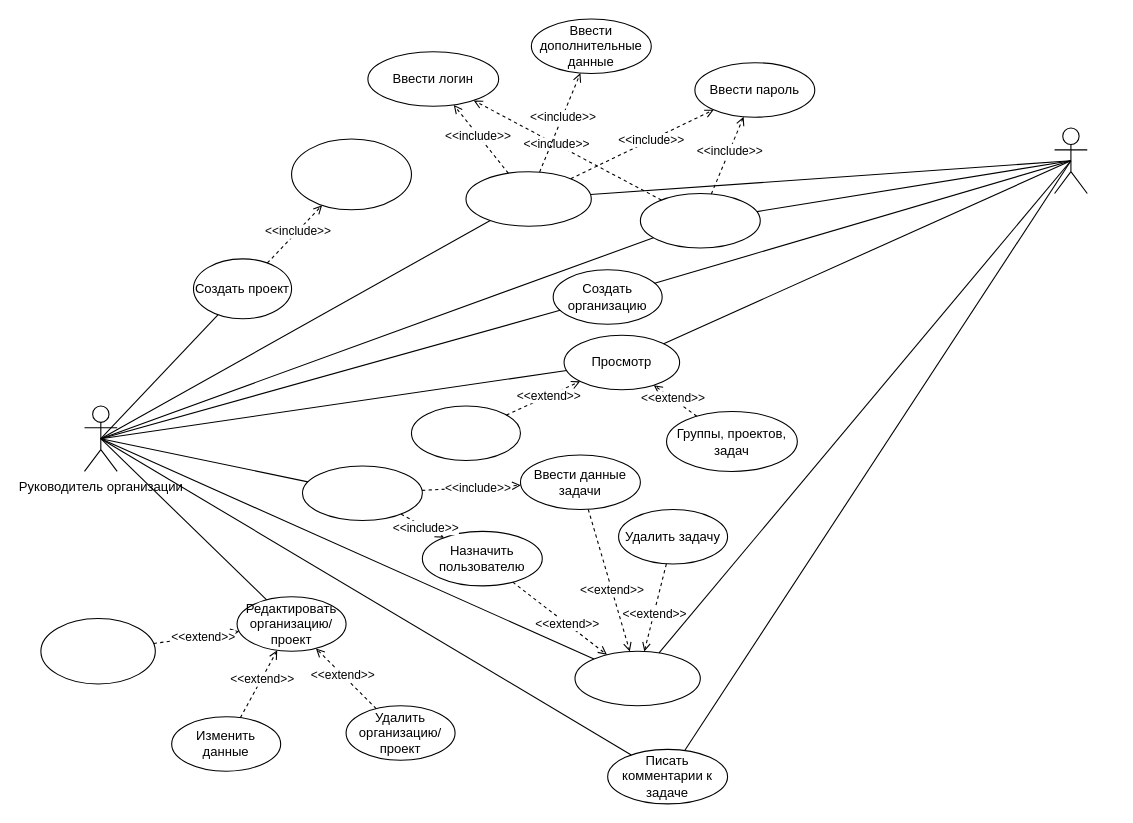
This 1133x823 diagram has some shape labels left out. Each missing label, with the centre of its shape:
"Авторизоваться как пользователь" belongs at pixel 699 220.
"Зарегистрироваться как пользователь" belongs at pixel 528 198.
"Исключить пользователя из организации/проекта" belongs at pixel 97 650.
"Назначить пользователя руководителем" belongs at pixel 350 174.
"Пользователь" belongs at pixel 1070 160.
"Редактировать задачу" belongs at pixel 637 678.
"Создать групповую задачу" belongs at pixel 361 492.
"Список пользователей" belongs at pixel 465 433.
